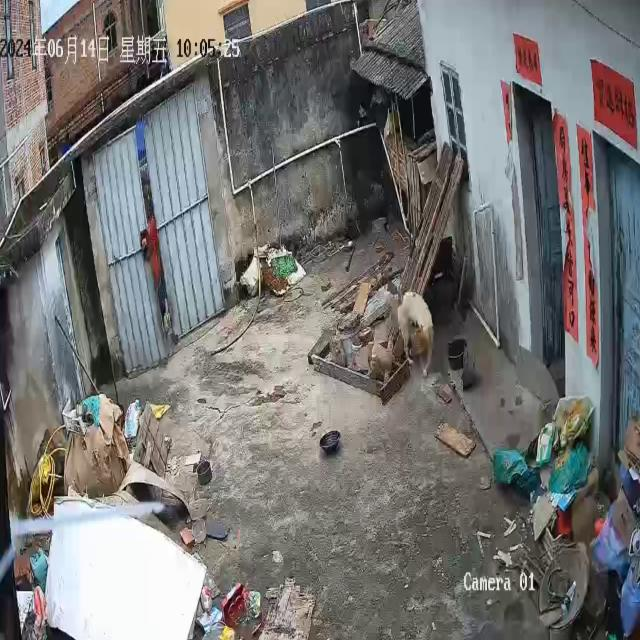dog: (398, 291, 435, 378)
